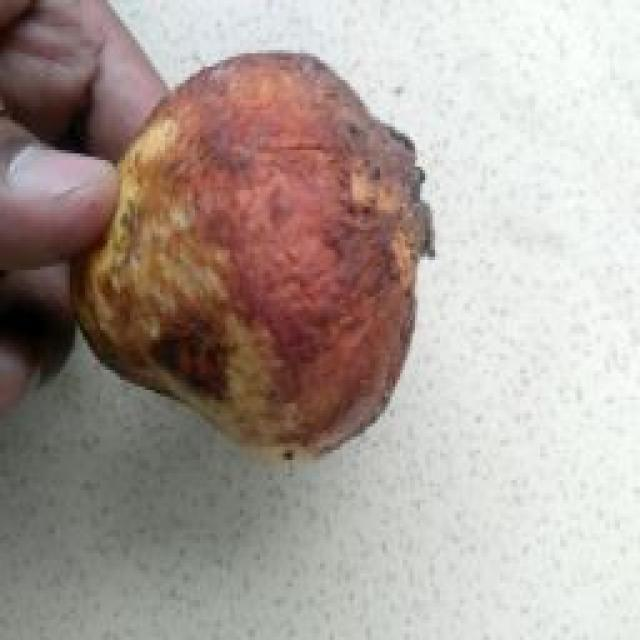Bad_Guava: (72, 55, 434, 456)
